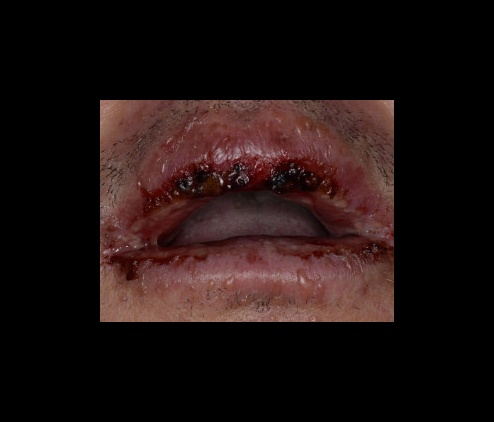SJS-TEN: (98, 95, 400, 329)
